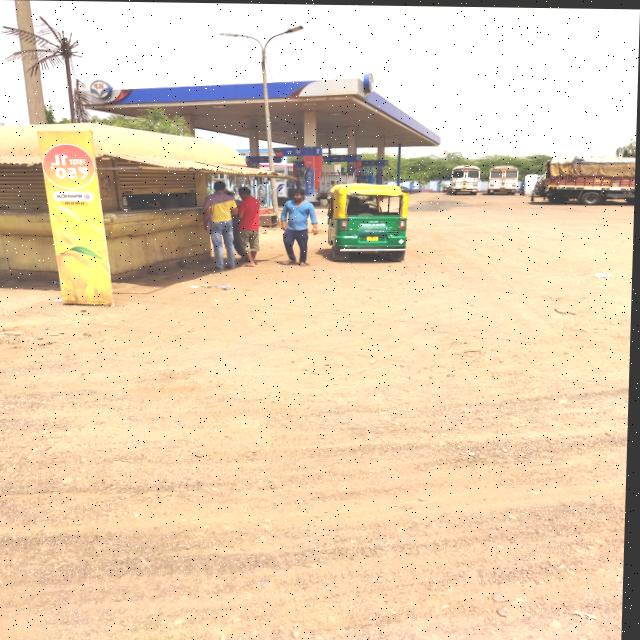plate: (368, 235, 380, 240), (501, 187, 506, 190), (463, 187, 467, 189)
